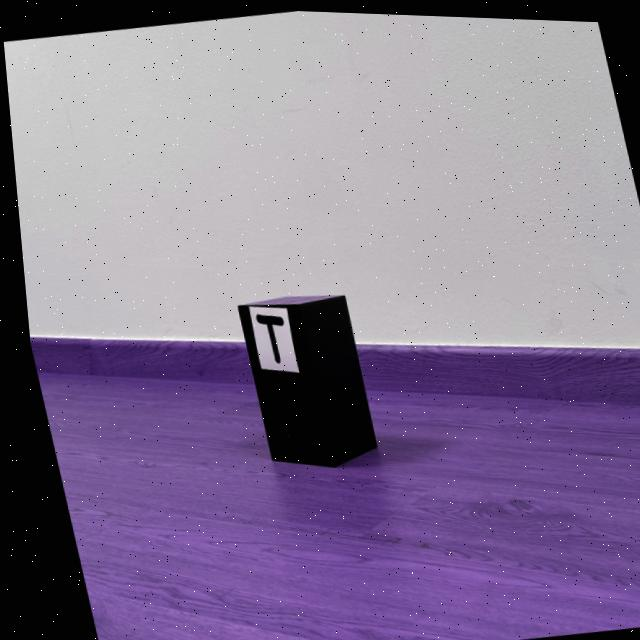T: (250, 312, 278, 361)
